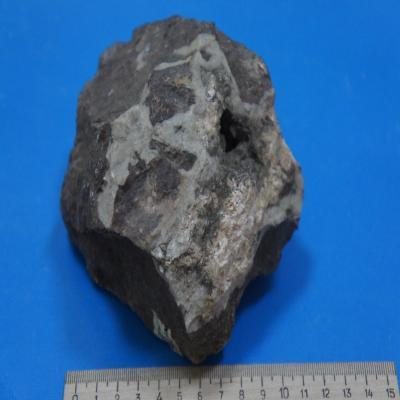mineralogy: (61, 16, 303, 363)
